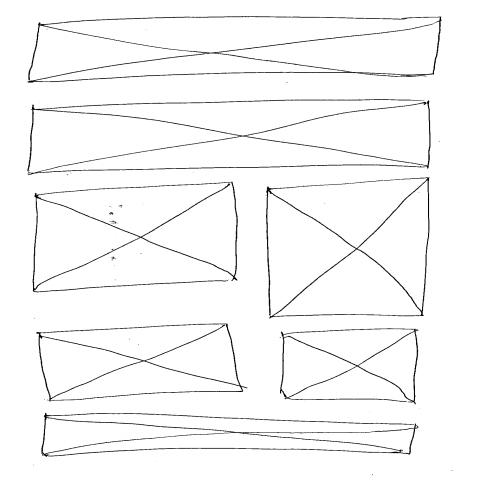Image: (25, 100, 433, 176), (27, 15, 444, 85), (264, 177, 433, 319), (31, 182, 238, 294), (35, 323, 243, 404), (40, 414, 418, 458), (278, 328, 422, 404)
